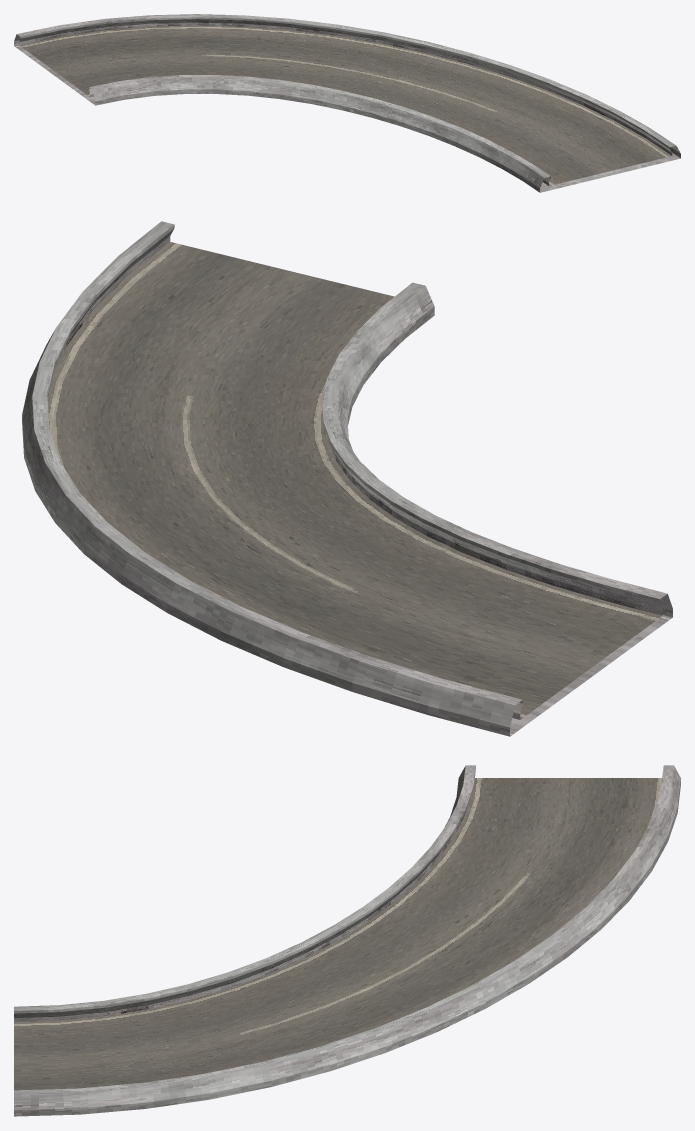
File: road-Turn-Flat-Flat-Up1-Left-Size3.glb
The picture shows the model from 3 angles, top to bottom: view 1: azimuth 30°, elevation 25°; view 2: azimuth 150°, elevation 25°; view 3: azimuth 270°, elevation 25°; orthographic projection. The views are drawn at different scales.
Parts seen in each view (by area): view 1: road-Turn-Flat-Flat-Up1-Left-Size3; view 2: road-Turn-Flat-Flat-Up1-Left-Size3; view 3: road-Turn-Flat-Flat-Up1-Left-Size3.
Boxes of the visible parts, <box> form: road-Turn-Flat-Flat-Up1-Left-Size3: <box>14,14,680,192</box>; road-Turn-Flat-Flat-Up1-Left-Size3: <box>22,221,672,736</box>; road-Turn-Flat-Flat-Up1-Left-Size3: <box>14,765,680,1116</box>.
Size of the model in its own units: 3 by 0.3438 by 3.
2 materials, 2 textured.
